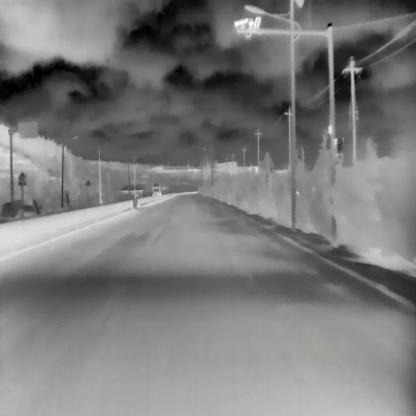truck: (150, 181, 161, 196)
